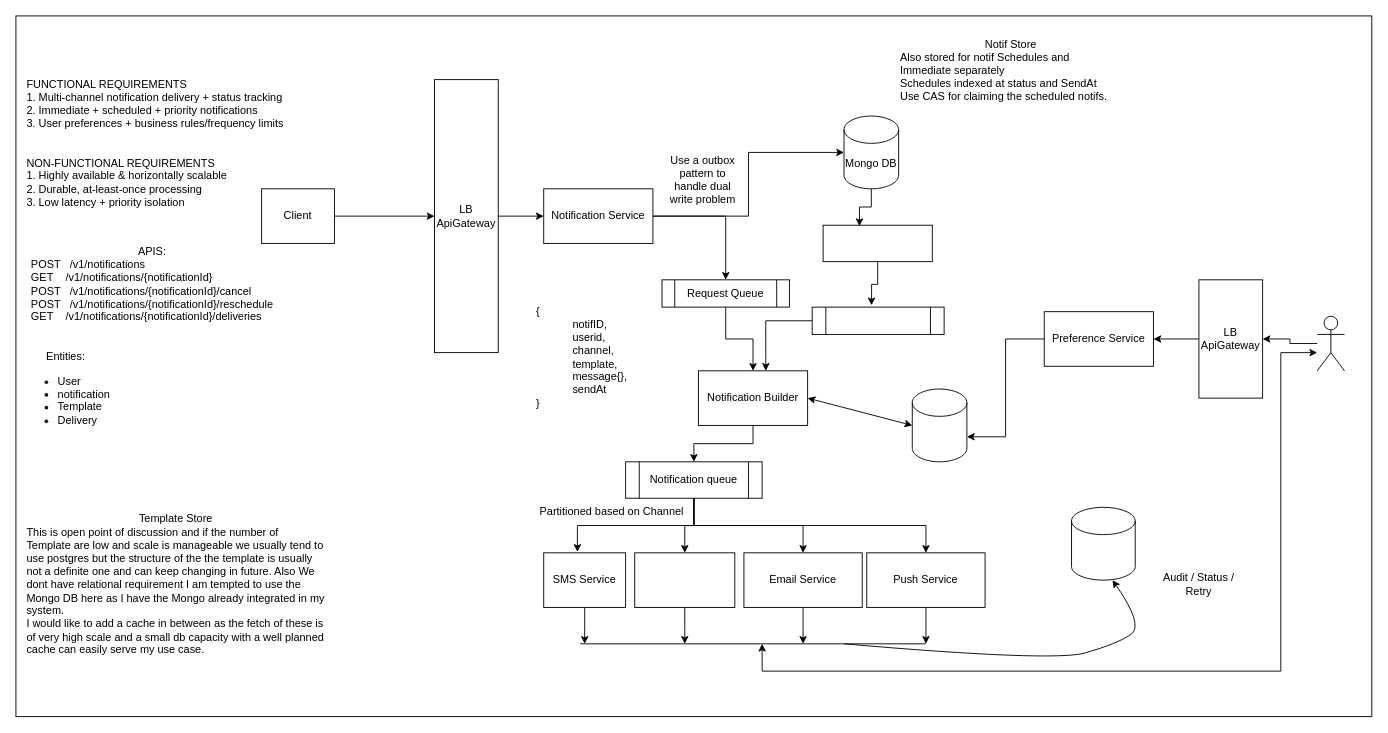
This 1388x733 diagram has some shape labels left out. The shapes that lost their labels are listed below. From the top down, each one's centre as x and y in pixels, then its label:
At point (877, 243): "Scheduler Service".
At point (877, 320): "Scheduled Queue".
At point (1330, 343): "Actor".
At point (939, 425): "Cassandra User DB".
At point (1103, 543): "DeliveryDB".
At point (684, 579): "WhatsApp Service".
